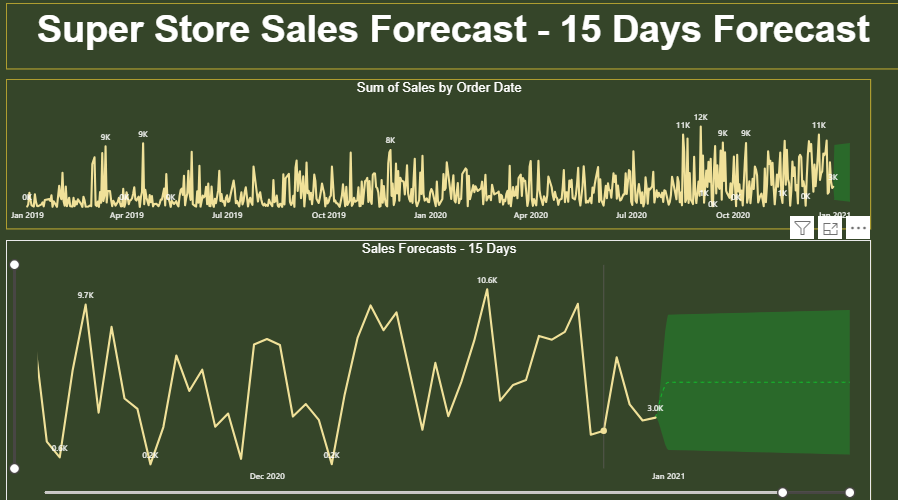

What the dashboard file says about the page in this screenshot:
{"tool":"powerbi","page":{"name":"Sales Forecast","canvas":[1280,720],"ordinal":1},"visuals":[{"type":"lineChart","fields":{"Y":["Sum(SuperStore_Sales_Dataset.Sales)"],"Category":["SuperStore_Sales_Dataset.Order Date"]},"box":[12.8,121.9,1226,212.6],"z":0},{"type":"lineChart","title":"Sales Forecasts - 15 Days","fields":{"Y":["Sum(SuperStore_Sales_Dataset.Sales)"],"Category":["SuperStore_Sales_Dataset.Order Date"]},"box":[12.8,350.1,1226,369.9],"z":2},{"type":"textbox","box":[12.8,14.2,1267.1,93.5],"z":3}]}

Visuals, with their boxes in screenshot pixels (x1, y1, x2, y2), scaled from the page's 1280x720 canvas onto the 898x500 screenshot:
lineChart - Sum(SuperStore_Sales_Dataset.Sales) x SuperStore_Sales_Dataset.Order Date: (x1=9, y1=85, x2=869, y2=232)
"Sales Forecasts - 15 Days" lineChart: (x1=9, y1=243, x2=869, y2=499)
textbox: (x1=9, y1=10, x2=897, y2=75)
